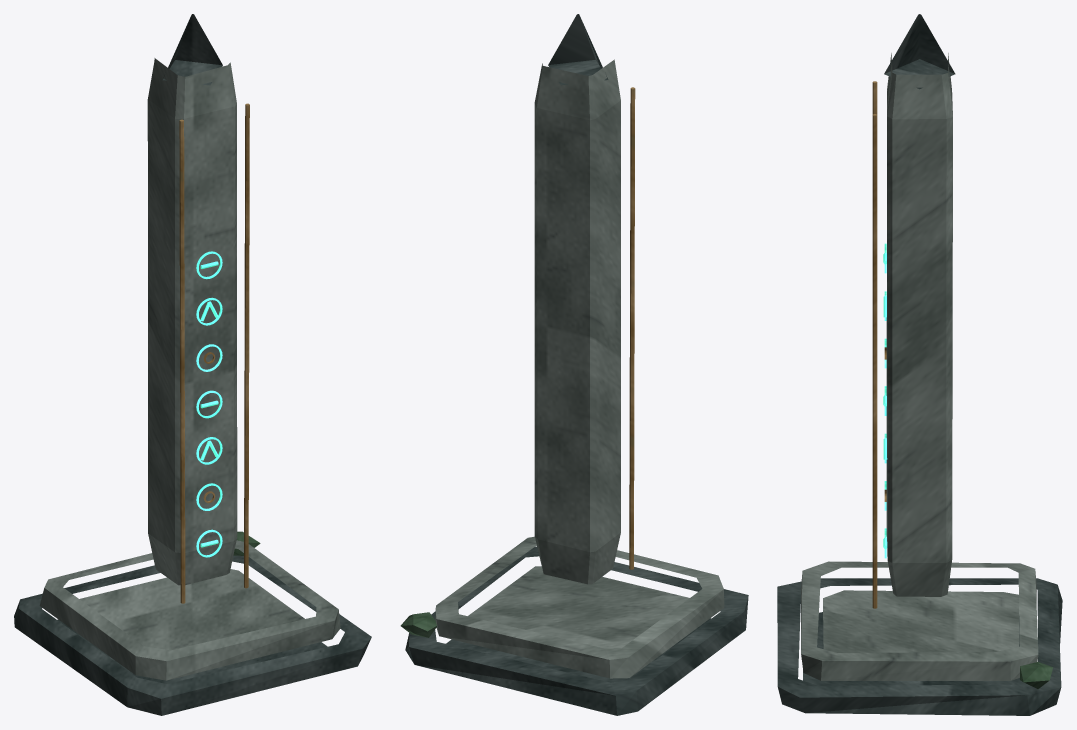
Rendered from 0498_obelisk_23.glb.
The picture shows the model from 3 angles, left to right: view 1: azimuth 30°, elevation 25°; view 2: azimuth 150°, elevation 25°; view 3: azimuth 270°, elevation 25°; orthographic projection. The views are drawn at different scales.
Visible parts, largest first — view 1: stone, stone_dark, brass, glow; view 2: stone, stone_dark, brass, moss; view 3: stone, stone_dark, brass, moss, glow.
Part boxes in pixels (left/top/right/bottom): stone: left=39, top=58, right=340, bottom=680; stone_dark: left=14, top=14, right=371, bottom=715; brass: left=179, top=103, right=249, bottom=603; glow: left=196, top=251, right=222, bottom=557; stone: left=435, top=59, right=724, bottom=678; stone_dark: left=405, top=14, right=748, bottom=715; brass: left=629, top=87, right=635, bottom=569; moss: left=400, top=612, right=436, bottom=637; stone: left=801, top=53, right=1038, bottom=680; stone_dark: left=777, top=14, right=1062, bottom=715; brass: left=872, top=81, right=886, bottom=608; moss: left=1020, top=662, right=1052, bottom=688; glow: left=883, top=243, right=887, bottom=558.
Bounding box in the file's own units: 1.9 × 4.75 × 1.91.
Materials: 5 (5 with a texture image).
